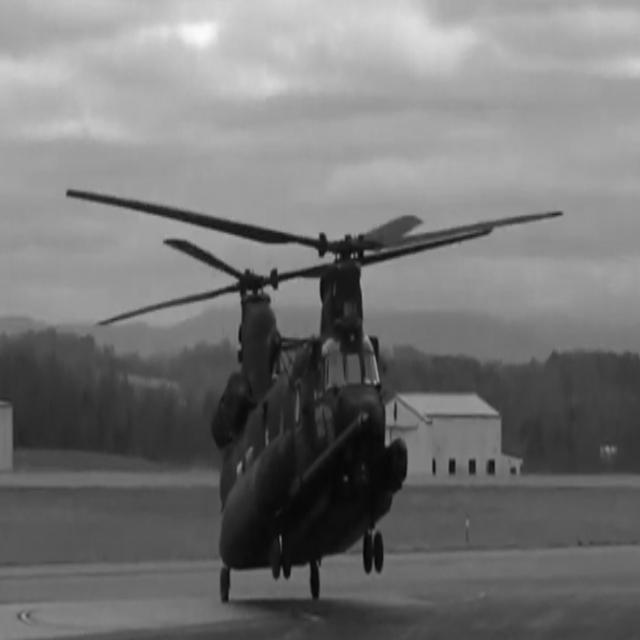Helicopter: (68, 189, 561, 599)
